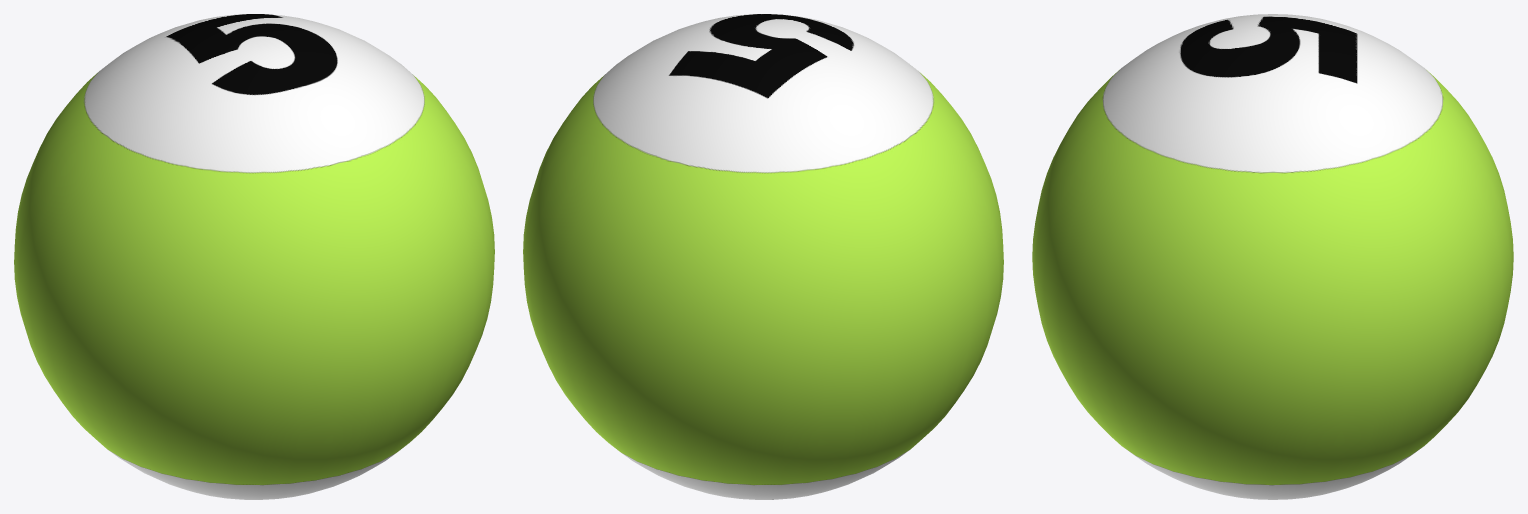
3 renders of one model, left to right at view 1: azimuth 30°, elevation 25°; view 2: azimuth 150°, elevation 25°; view 3: azimuth 270°, elevation 25°, orthographic.
Parts seen in each view (by area): view 1: 5-five; view 2: 5-five; view 3: 5-five.
Part boxes in pixels (<box>): 5-five: <box>14,14,494,499</box>; 5-five: <box>523,14,1003,499</box>; 5-five: <box>1032,14,1513,499</box>.
Size of the model in its own units: 0.5015 by 0.5088 by 0.5015.
1 material, 1 textured.
